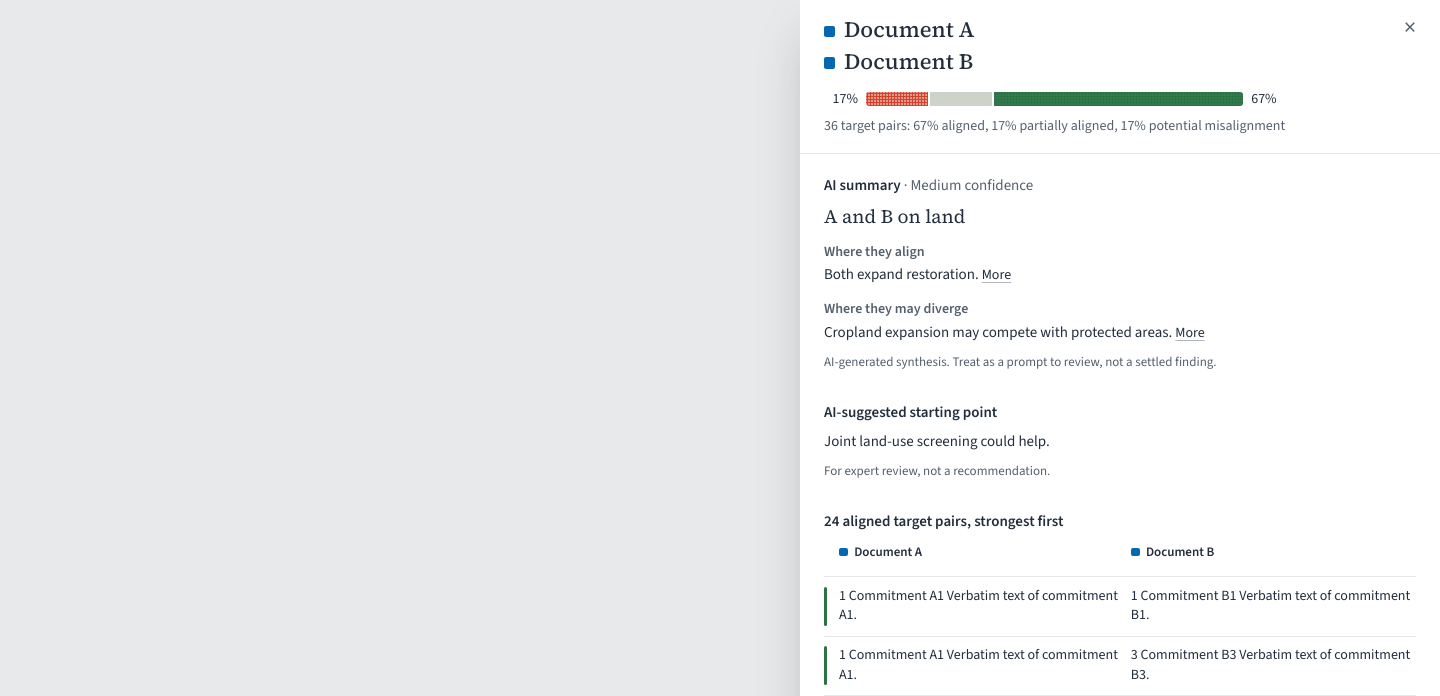
Test: BriefPanels › reads a pair of documents with the AI's first sentences, the rest on request
The image size is (1440, 696).
Expected: the text "A and B on land" is shown, [824,203,966,229]
Expected: the text "Both expand restoration." is shown, [824,264,979,285]
Click the button "More" next to "Both expand restoration.".
click(996, 276)  # box [982,265,1011,287]
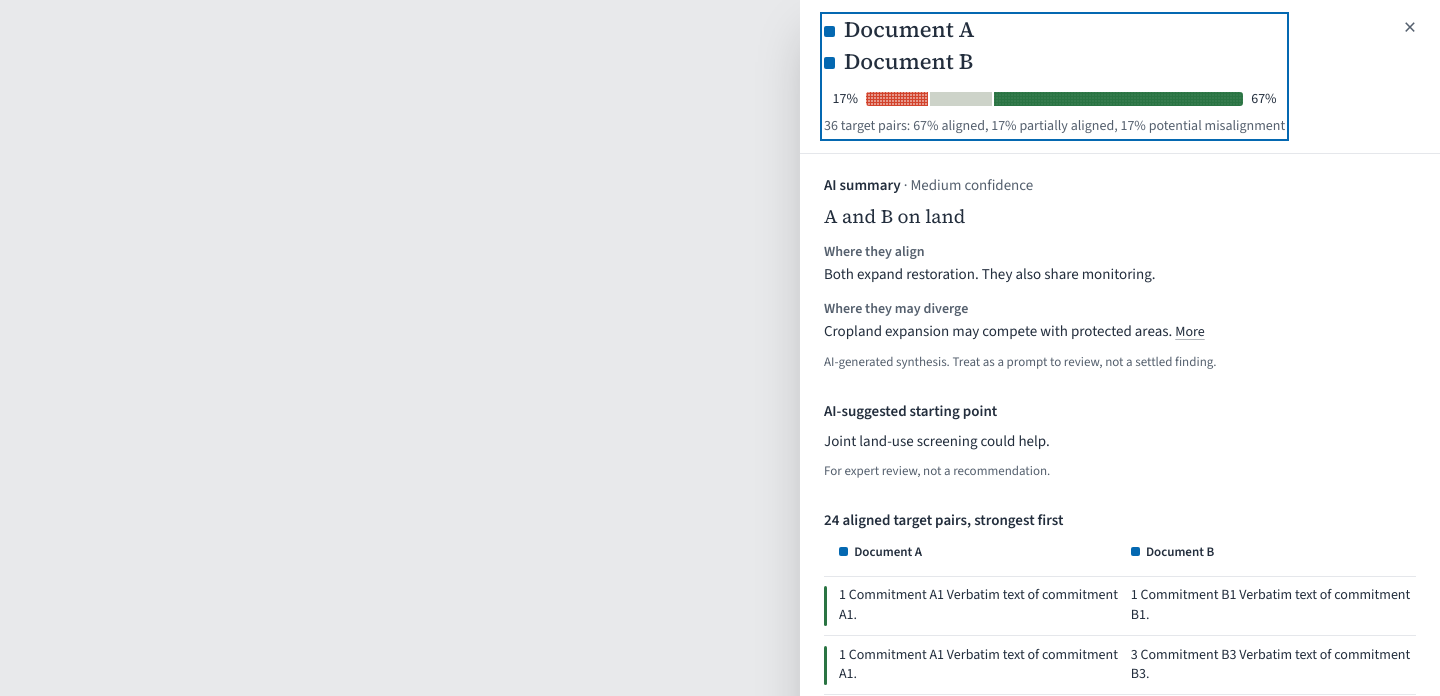
Expected: the text "Cropland expansion may compete with protected areas." is shown, [824,321,1172,342]
Result: the text "Both expand restoration. They also share monitoring." is shown at [824,264,1156,285]
